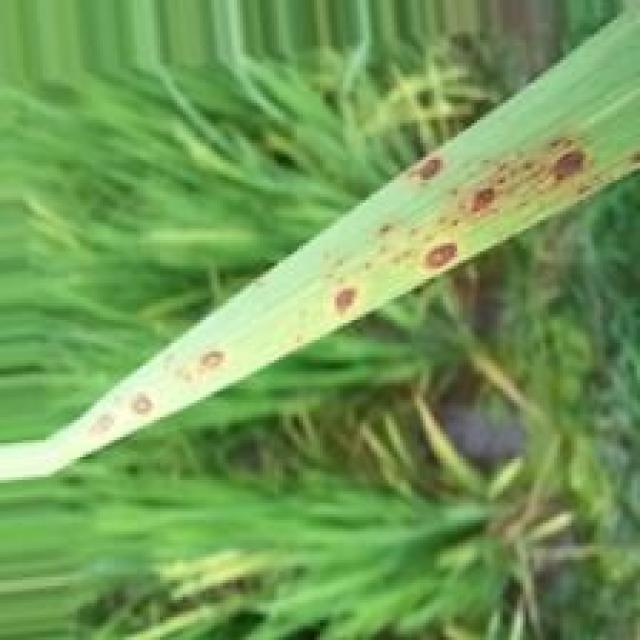Brown_Spot: (539, 146, 592, 192), (415, 240, 462, 276), (464, 183, 500, 225), (410, 155, 443, 190), (329, 284, 358, 318), (123, 392, 154, 418), (195, 350, 226, 375)
